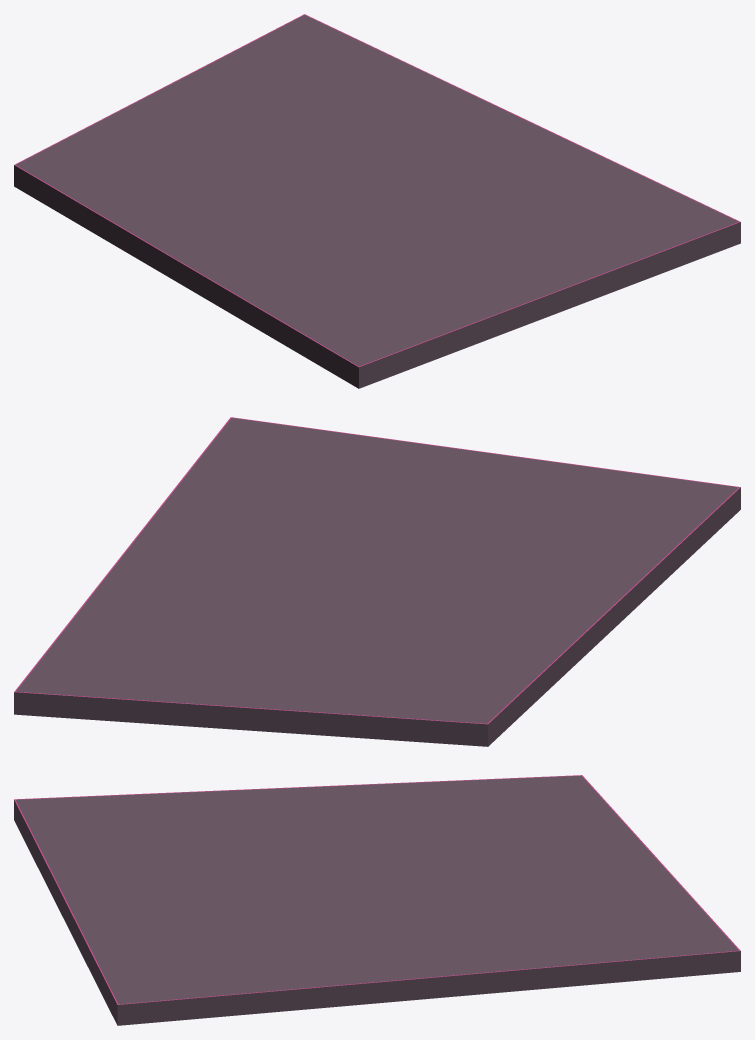
The model's file is way-1044328354.glb.
3 views of the same model, one above another, from view 1: azimuth 30°, elevation 25°; view 2: azimuth 150°, elevation 25°; view 3: azimuth 270°, elevation 25° (orthographic). The views are drawn at different scales.
Visible parts, largest first — view 1: way-1044328354; view 2: way-1044328354; view 3: way-1044328354.
Part boxes in pixels (left/top/right/bottom): way-1044328354: left=14, top=14, right=740, bottom=388; way-1044328354: left=14, top=417, right=740, bottom=746; way-1044328354: left=14, top=775, right=740, bottom=1025.
Bounding box in the file's own units: 70.94 × 3 × 94.79.
